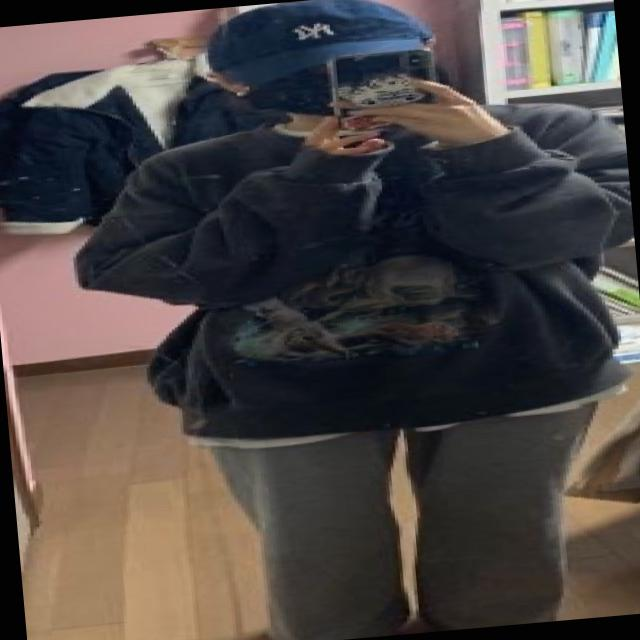hoodies: (62, 93, 640, 455)
trainingpants: (206, 397, 622, 640)
